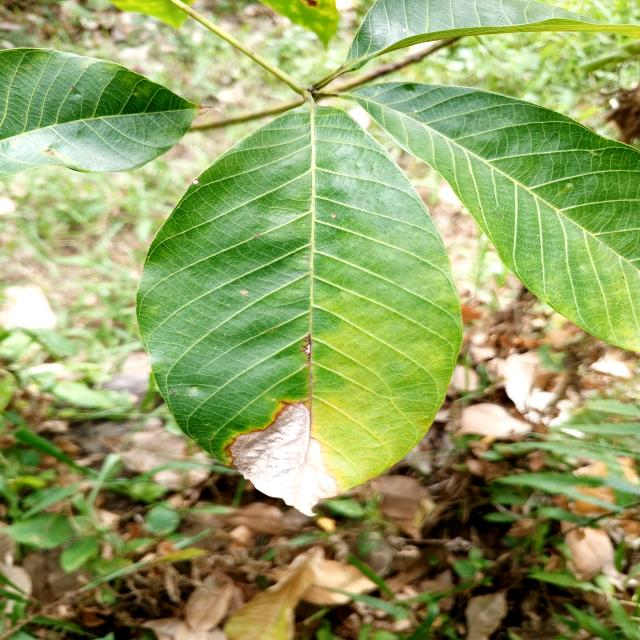Colletotrichum: (192, 178, 200, 184), (330, 213, 337, 219), (496, 213, 500, 217), (306, 259, 309, 262)
Corynespora: (298, 334, 312, 363)
Leaf-Blight: (226, 402, 343, 516)
